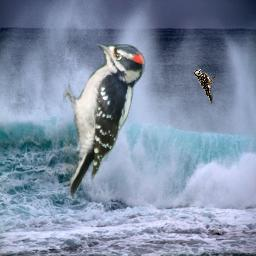Woodpecker: (63, 39, 147, 200), (194, 69, 215, 104)
